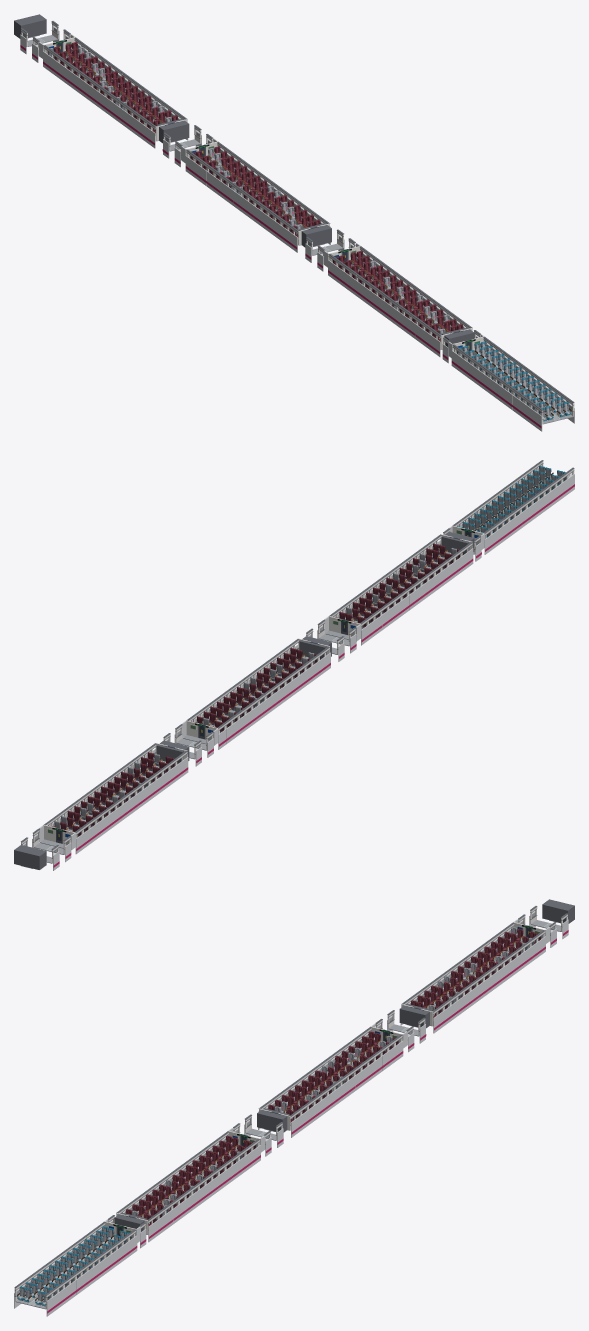
File: car_granClass.glb
3 views of the same model, one above another, from view 1: azimuth 30°, elevation 25°; view 2: azimuth 150°, elevation 25°; view 3: azimuth 330°, elevation 25° (orthographic).
Visible parts, largest first — view 1: global_st_3, global_st_1, global_st_2; view 2: global_st_3; view 3: global_st_3, global_st_1, global_st_2.
Part boxes in pixels (x1=…): global_st_3: x1=14, y1=14, x2=46, y2=38; global_st_1: x1=299, y1=223, x2=331, y2=247; global_st_2: x1=156, y1=119, x2=189, y2=143; global_st_3: x1=14, y1=845, x2=46, y2=869; global_st_3: x1=542, y1=899, x2=574, y2=923; global_st_1: x1=257, y1=1108, x2=289, y2=1132; global_st_2: x1=399, y1=1004, x2=432, y2=1028.
Size of the model in its own units: 3.39 by 2.07 by 93.26.
35 materials, 8 textured.
